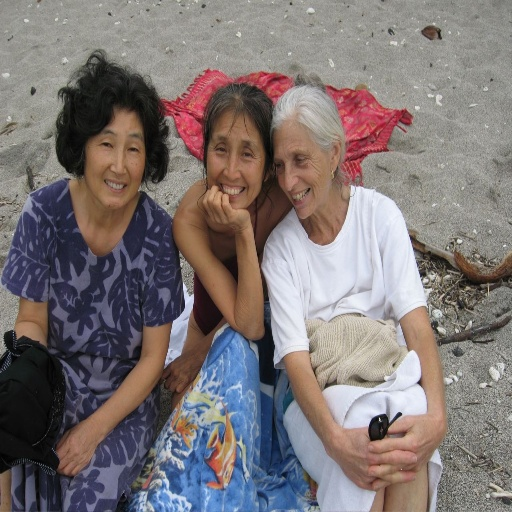hand: (365, 411, 444, 493), (329, 421, 417, 491), (54, 424, 98, 480), (200, 184, 249, 230), (158, 347, 200, 397)
